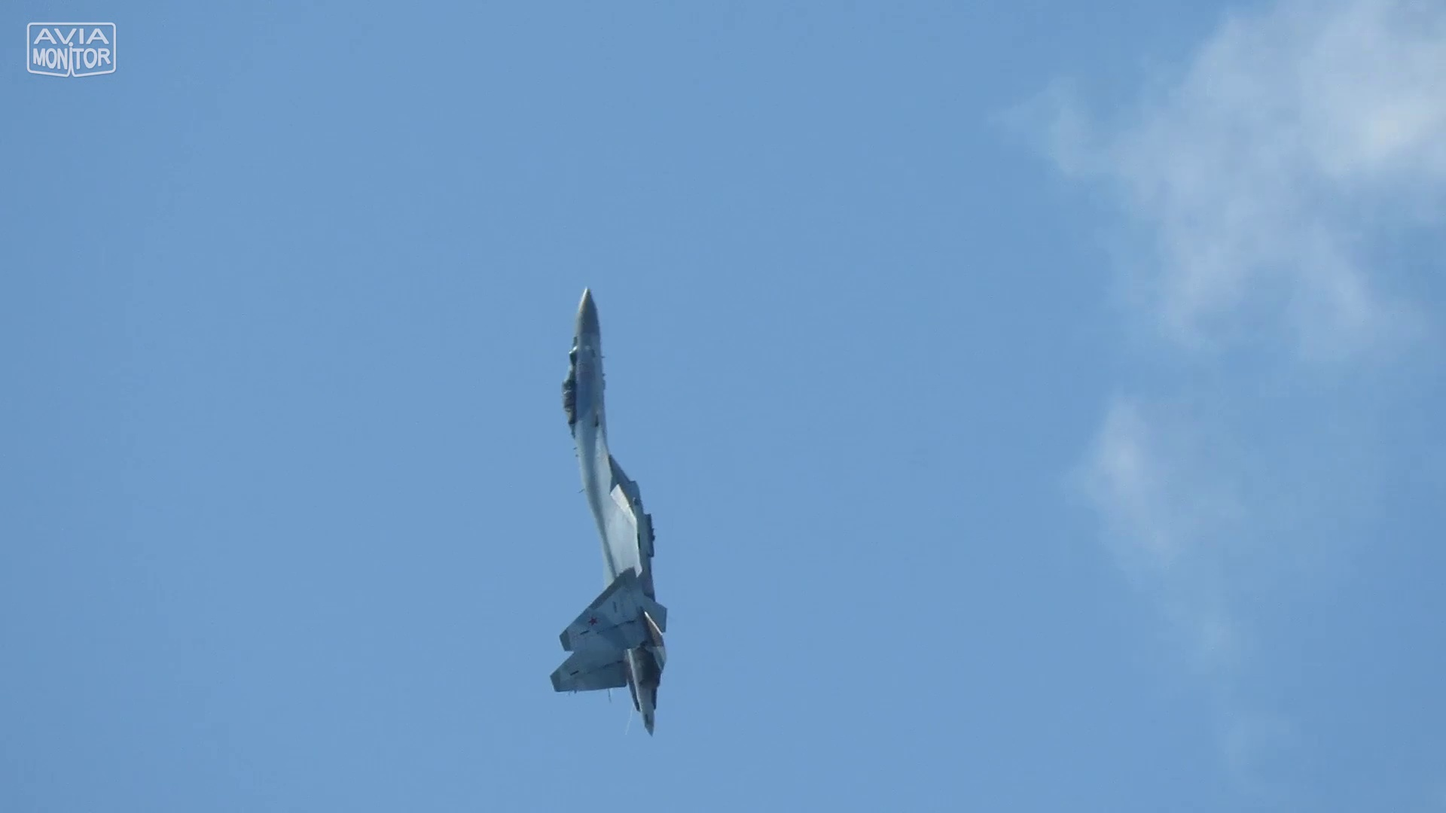Su35: (544, 284, 677, 740)
